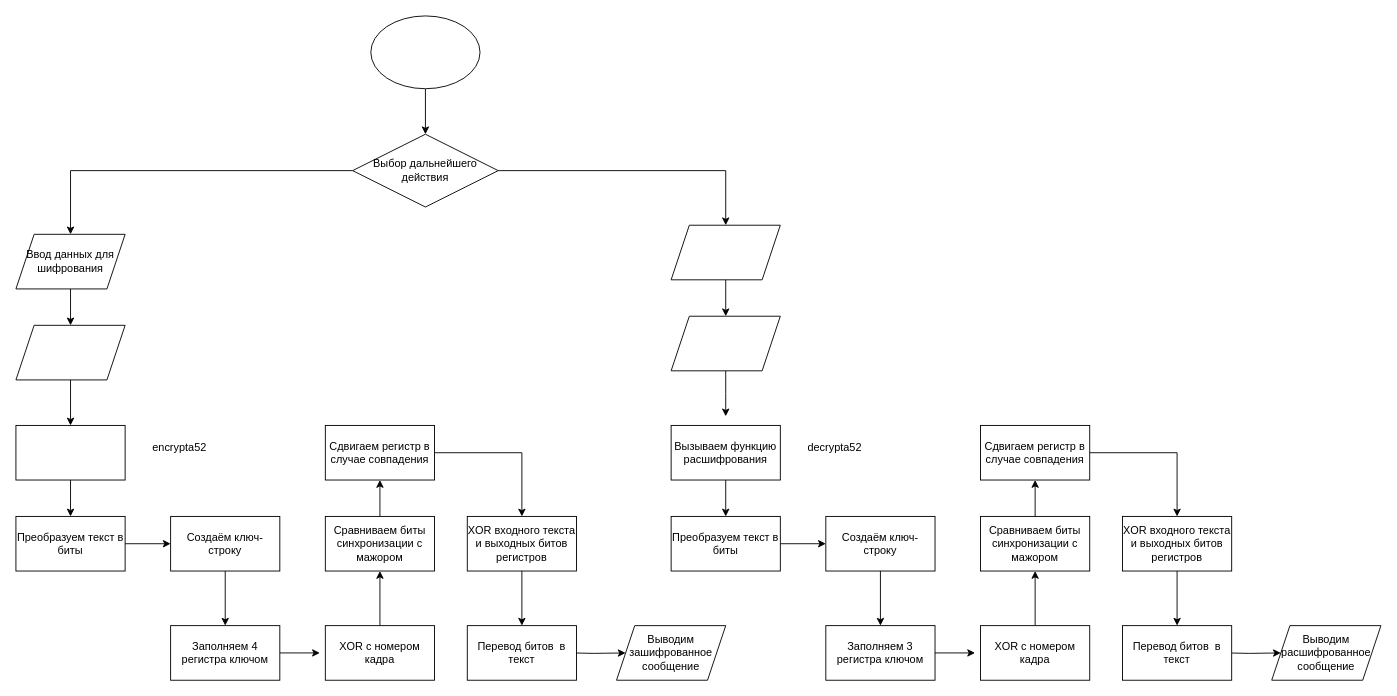
The diagram is 1397 pixels wide and 696 high, and some of its shapes have lost their labels. Each missing label, with the centre of its shape:
Ввод данных для расшифрования: (725,252)
Вызываем функцию шифрования: (70,452)
Нажатие кнопки "Расшифровать": (725,343)
Нажатие кнопки "Шифровать": (70,352)
Начало: (425,52)
